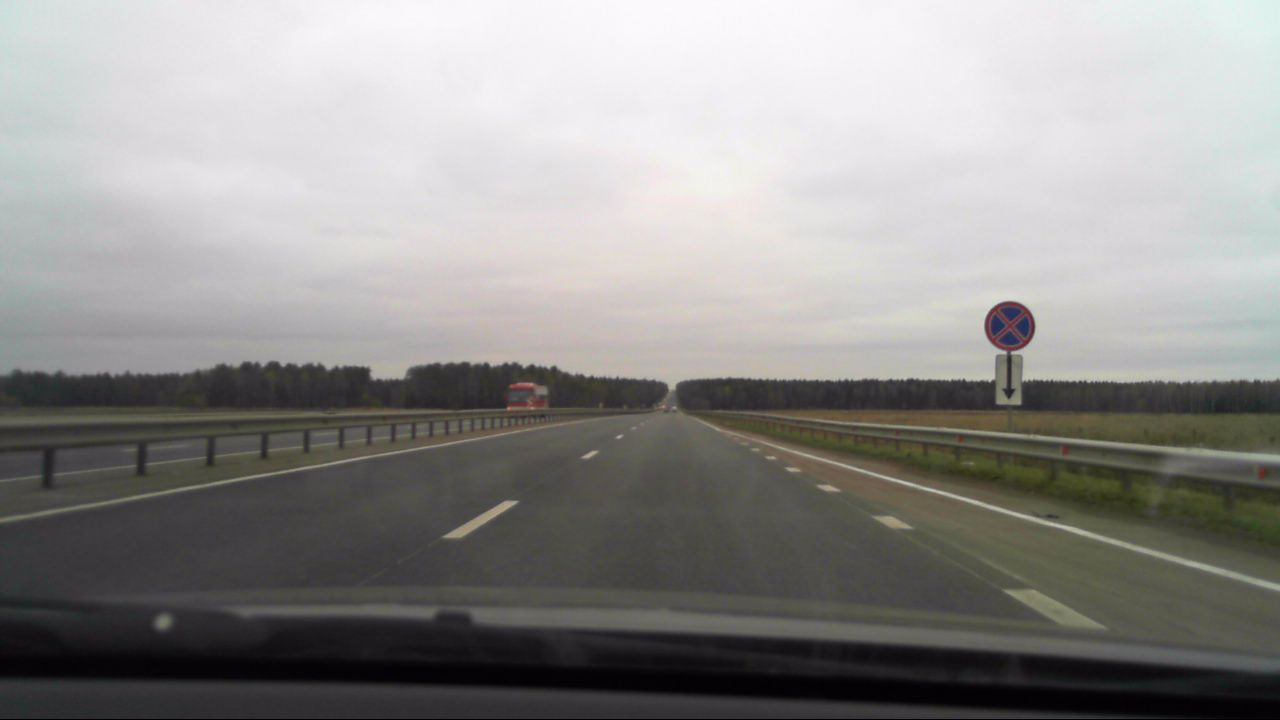No Parking: (985, 300, 1037, 350)
